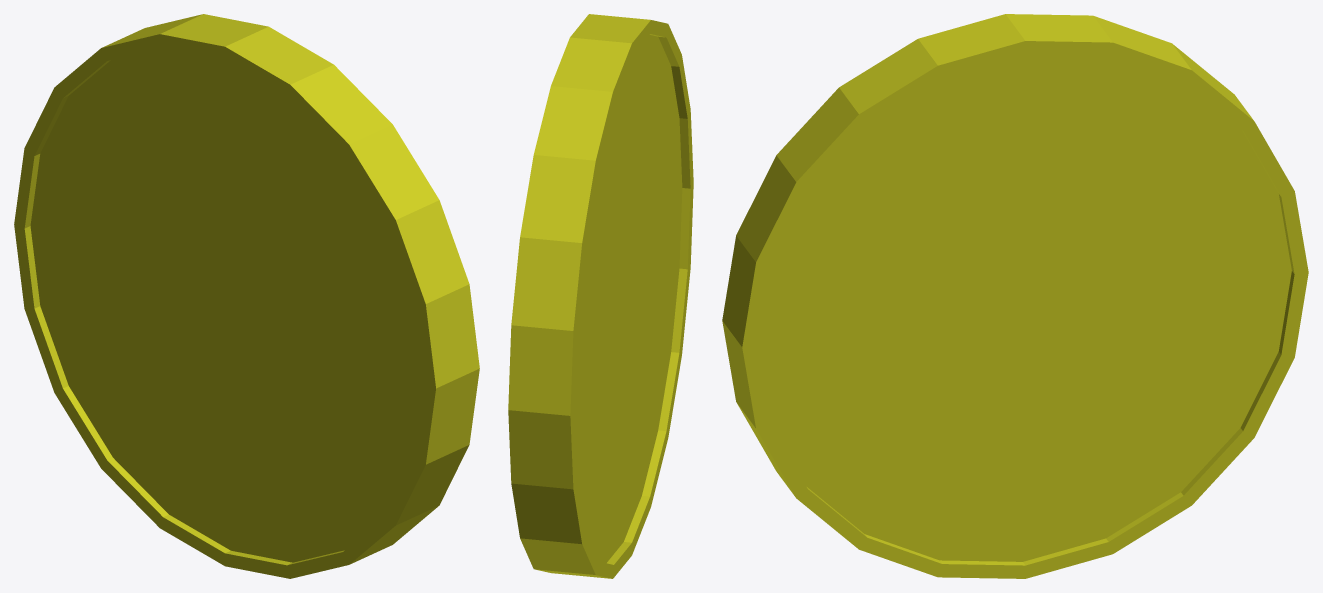
Rendered from Low Poly Coin_000133.obj.
The picture shows the model from 3 angles, left to right: view 1: azimuth 30°, elevation 25°; view 2: azimuth 150°, elevation 25°; view 3: azimuth 270°, elevation 25°; orthographic projection. The views are drawn at different scales.
Visible parts, largest first — view 1: Cylinder; view 2: Cylinder; view 3: Cylinder.
Part boxes in pixels (bbox=[...]): Cylinder: bbox=[14, 14, 479, 578]; Cylinder: bbox=[508, 14, 693, 578]; Cylinder: bbox=[722, 14, 1308, 578].
Size of the model in its own units: 0.813 by 2 by 1.98.
